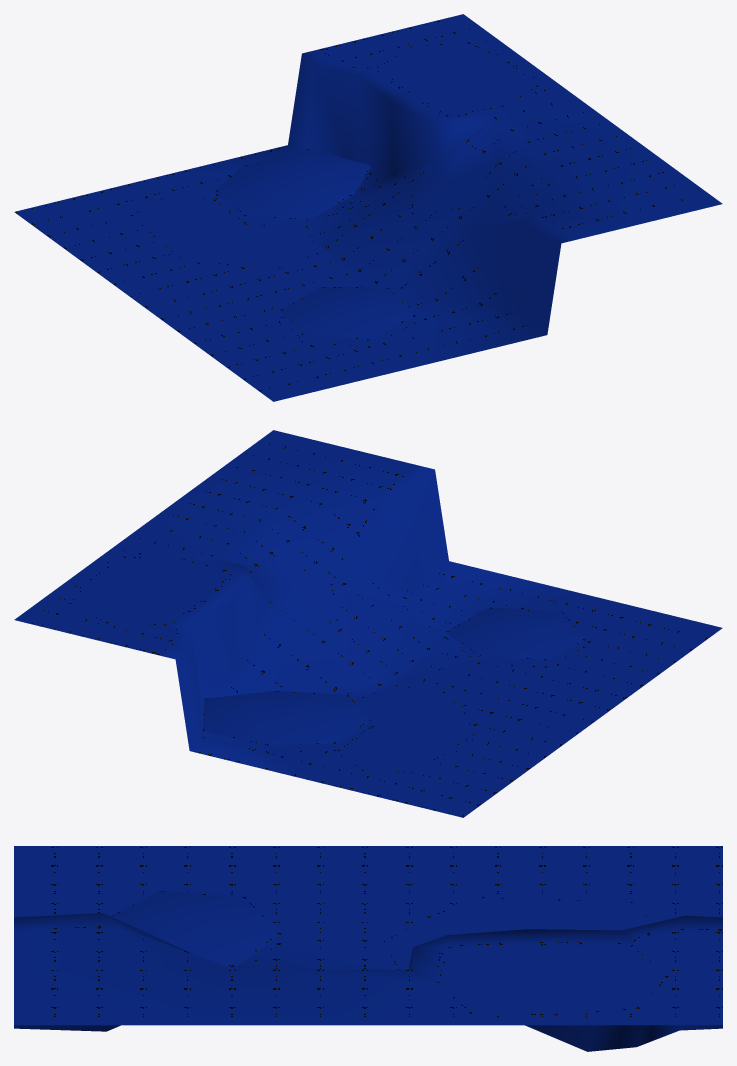
The model's file is GRD_S_C6_S_1.fbx.
The picture shows the model from 3 angles, top to bottom: view 1: azimuth 30°, elevation 25°; view 2: azimuth 150°, elevation 25°; view 3: azimuth 270°, elevation 25°; orthographic projection. The views are drawn at different scales.
Parts seen in each view (by area): view 1: material_00022000, material_00042000, material_C0032000, material_C0012000, material_C0052000; view 2: material_00022000, material_C0032000, material_00042000, material_C0012000, material_C0052000; view 3: material_00022000, material_C0032000, material_00042000, material_C0012000, material_C0052000.
Boxes of the visible parts, x1,y1,x2,y2 form: material_00022000: (14, 14, 722, 401); material_00042000: (288, 48, 581, 334); material_C0032000: (130, 42, 539, 267); material_C0012000: (215, 148, 416, 340); material_C0052000: (215, 172, 416, 347); material_00022000: (14, 430, 722, 817); material_C0032000: (69, 554, 475, 773); material_00042000: (155, 464, 448, 750); material_C0012000: (202, 607, 586, 745); material_C0052000: (202, 636, 586, 752); material_00022000: (14, 846, 722, 1049); material_C0032000: (382, 897, 668, 1015); material_00042000: (14, 913, 722, 1051); material_C0012000: (110, 891, 587, 1041); material_C0052000: (229, 937, 281, 968).
Size of the model in its own units: 12800 by 2400 by 12800.
